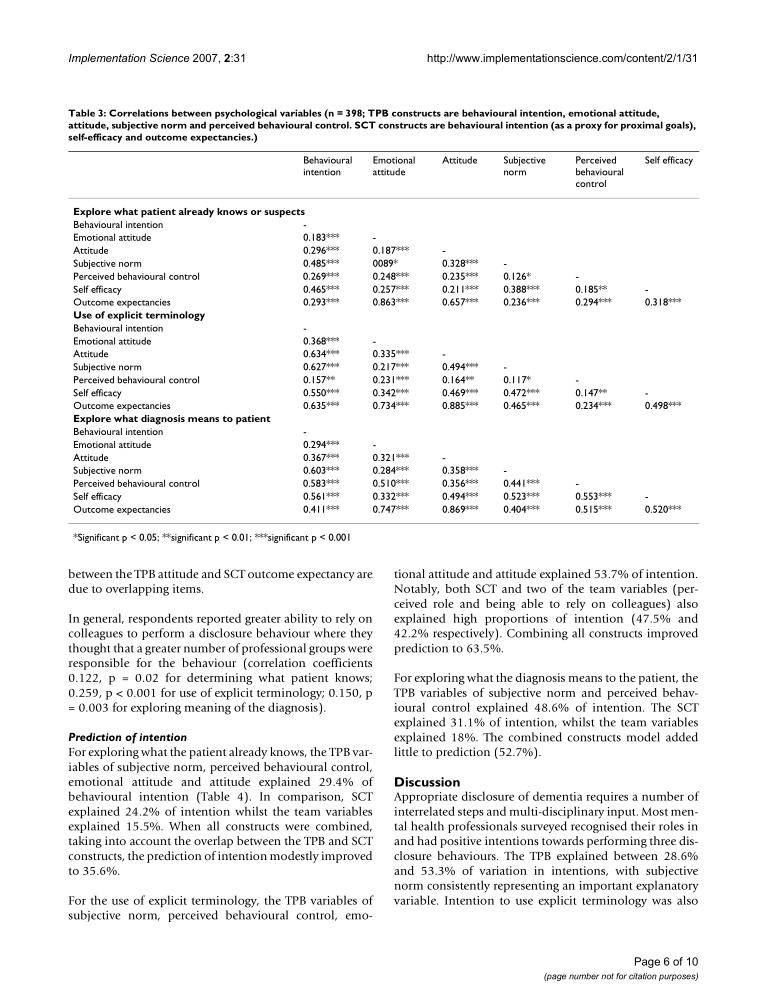table: (73, 154, 692, 515)
